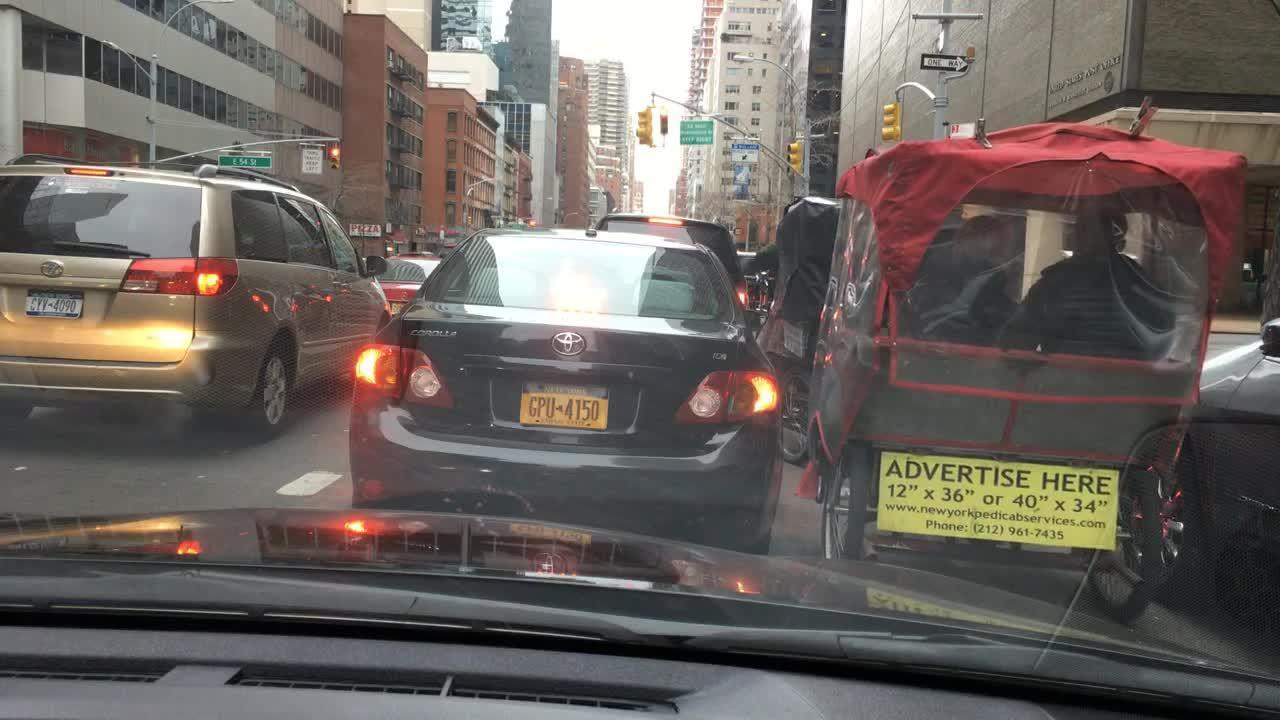Toyota: (534, 323, 596, 363), (27, 257, 72, 282)
